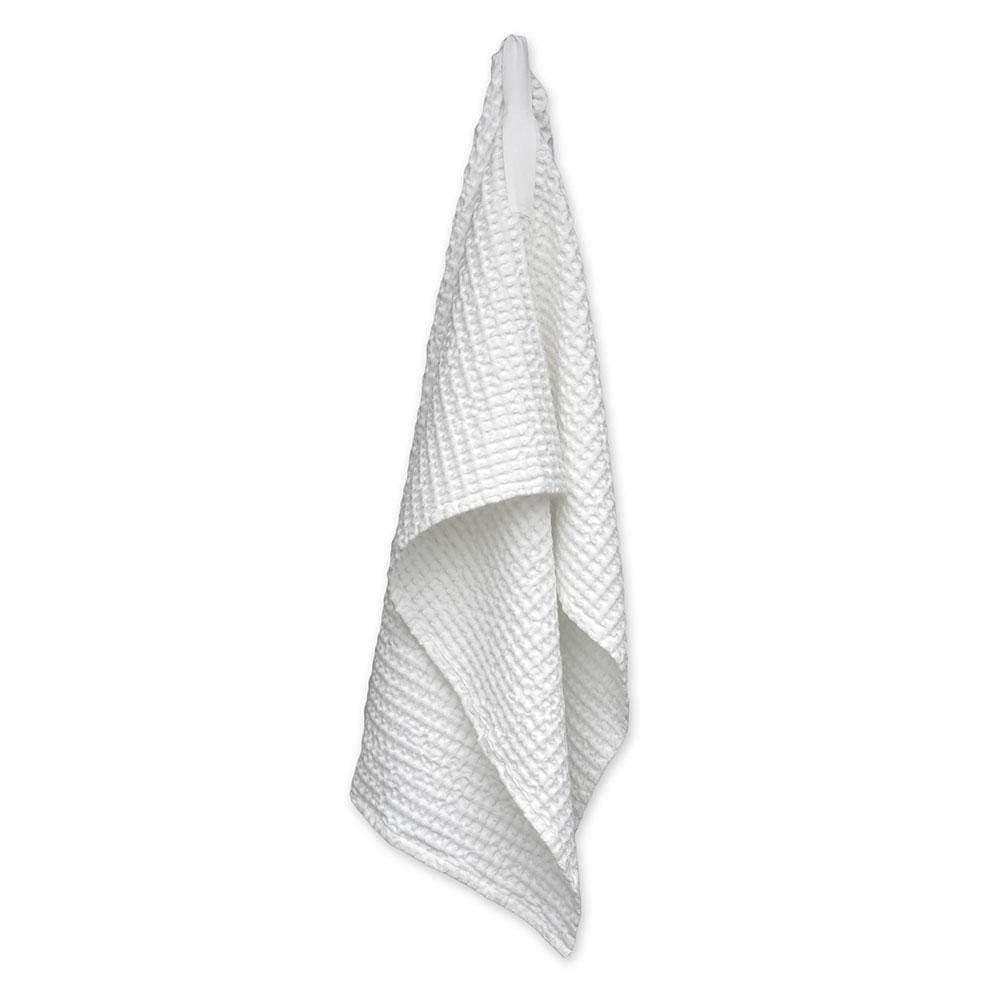towel: (337, 38, 665, 950)
